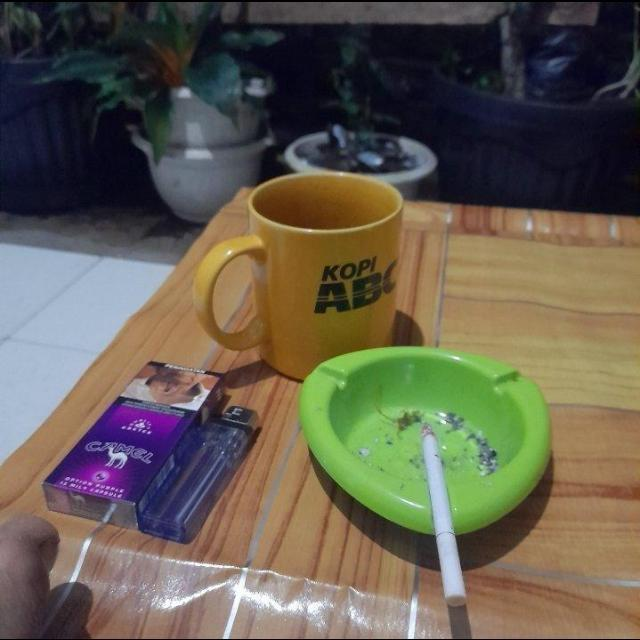rokok: (422, 429, 478, 611)
